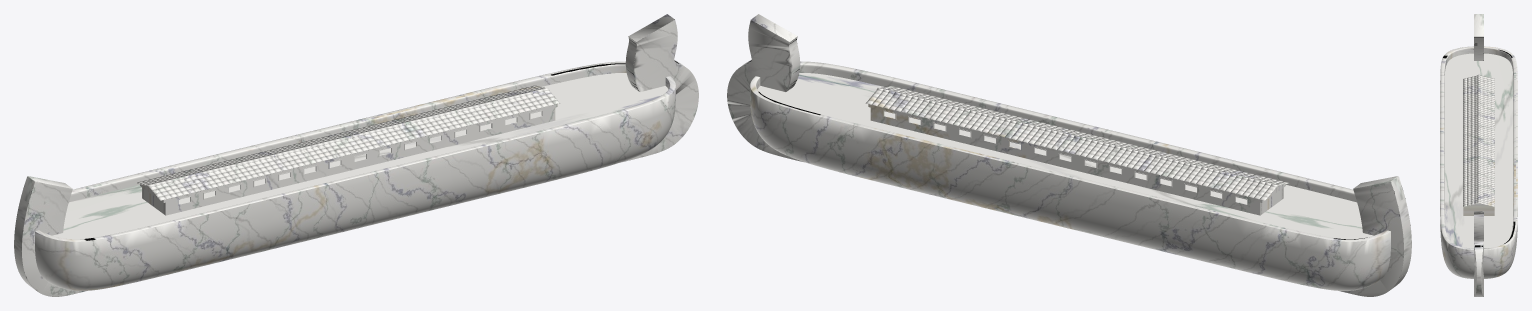
The model's file is arkgood2_marble1.glb.
3 views of the same model, side by side, from view 1: azimuth 30°, elevation 25°; view 2: azimuth 150°, elevation 25°; view 3: azimuth 270°, elevation 25° (orthographic). The views are drawn at different scales.
Parts seen in each view (by area): view 1: Hull, Deck, Fin, shingles, greenhouse, shinglestop, windowsill; view 2: Hull, Deck, Fin, shingles, greenhouse, shinglestop, windowsill; view 3: Deck, Hull, shingles, Fin, shinglestop, greenhouse.
Part boxes in pixels (<box>): Hull: <box>35,61,675,290</box>; Deck: <box>52,73,668,239</box>; Fin: <box>14,14,698,296</box>; shingles: <box>136,85,559,200</box>; greenhouse: <box>140,104,557,215</box>; shinglestop: <box>147,88,549,187</box>; windowsill: <box>178,110,542,205</box>; Hull: <box>750,61,1390,290</box>; Deck: <box>757,73,1373,239</box>; Fin: <box>727,14,1411,296</box>; shingles: <box>865,85,1288,200</box>; greenhouse: <box>868,104,1285,215</box>; shinglestop: <box>876,88,1278,187</box>; windowsill: <box>883,110,1247,205</box>; Deck: <box>1444,53,1513,248</box>; Hull: <box>1440,46,1517,278</box>; shingles: <box>1463,75,1494,206</box>; Fin: <box>1474,14,1483,296</box>; shinglestop: <box>1477,74,1480,203</box>; greenhouse: <box>1463,203,1494,215</box>.
Size of the model in its own units: 33.11 by 6.04 by 5.
Materials: 7 (7 with a texture image).
